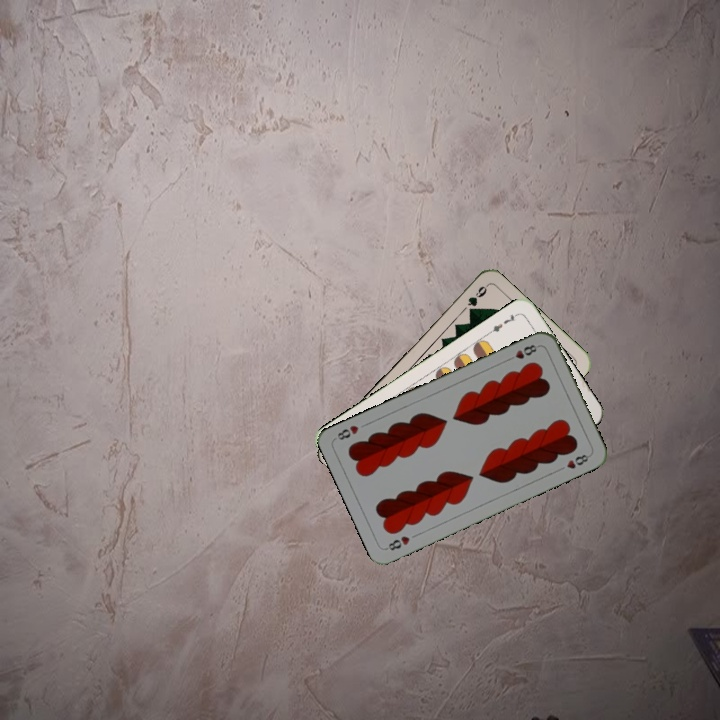E7: (485, 309, 521, 336)
G9: (464, 281, 490, 309)
H8: (503, 340, 542, 364), (382, 532, 413, 553)
